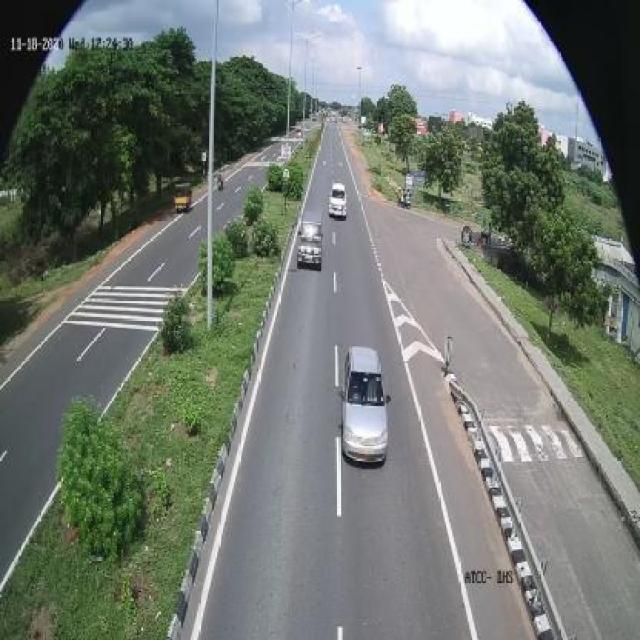car: (337, 342, 392, 472), (299, 215, 326, 272), (329, 177, 351, 223)
